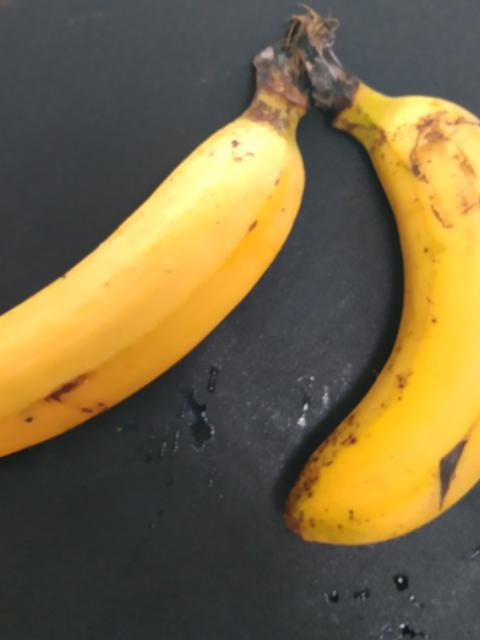freshripe: (0, 134, 311, 457)
ripe: (286, 91, 479, 582)
